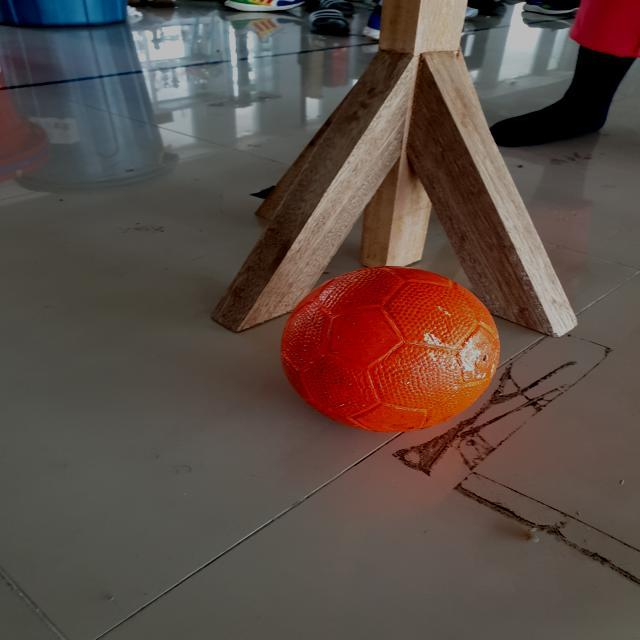bola: (280, 262, 504, 442)
